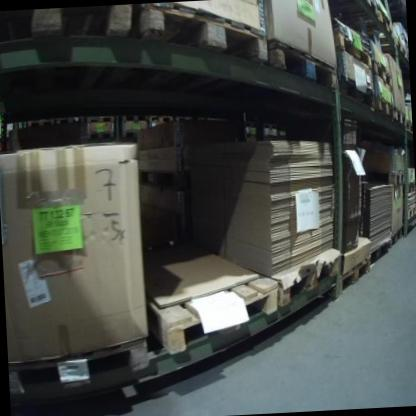pallet: (140, 249, 282, 359), (139, 1, 273, 74), (8, 337, 148, 403), (0, 5, 135, 45), (275, 242, 345, 307), (270, 36, 337, 96), (335, 30, 376, 72), (339, 253, 374, 299), (339, 73, 376, 111), (140, 169, 178, 191), (369, 234, 393, 267), (365, 169, 406, 187), (376, 1, 395, 38), (373, 58, 393, 89), (374, 97, 396, 121), (393, 28, 408, 62), (389, 224, 406, 250), (85, 114, 115, 125), (393, 106, 406, 129), (120, 113, 145, 124), (88, 132, 115, 142), (173, 114, 197, 125), (25, 118, 51, 128), (148, 113, 172, 123), (405, 202, 416, 220), (404, 182, 416, 198), (55, 117, 79, 124), (406, 118, 412, 134)
